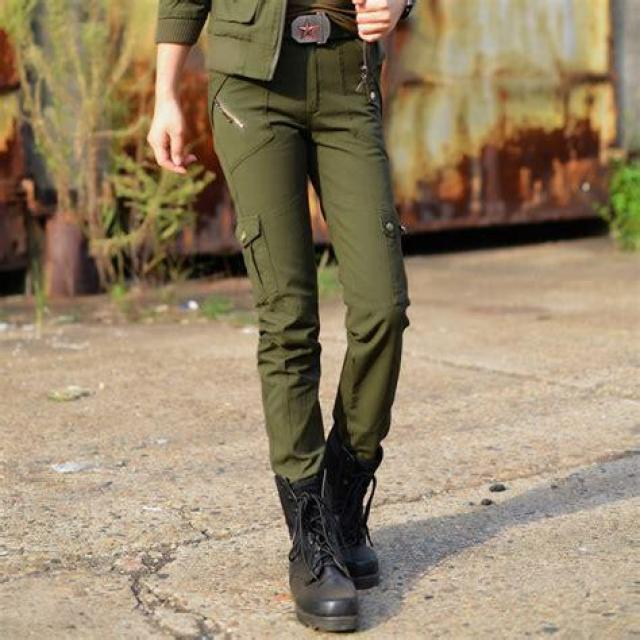pants: (206, 13, 412, 480)
